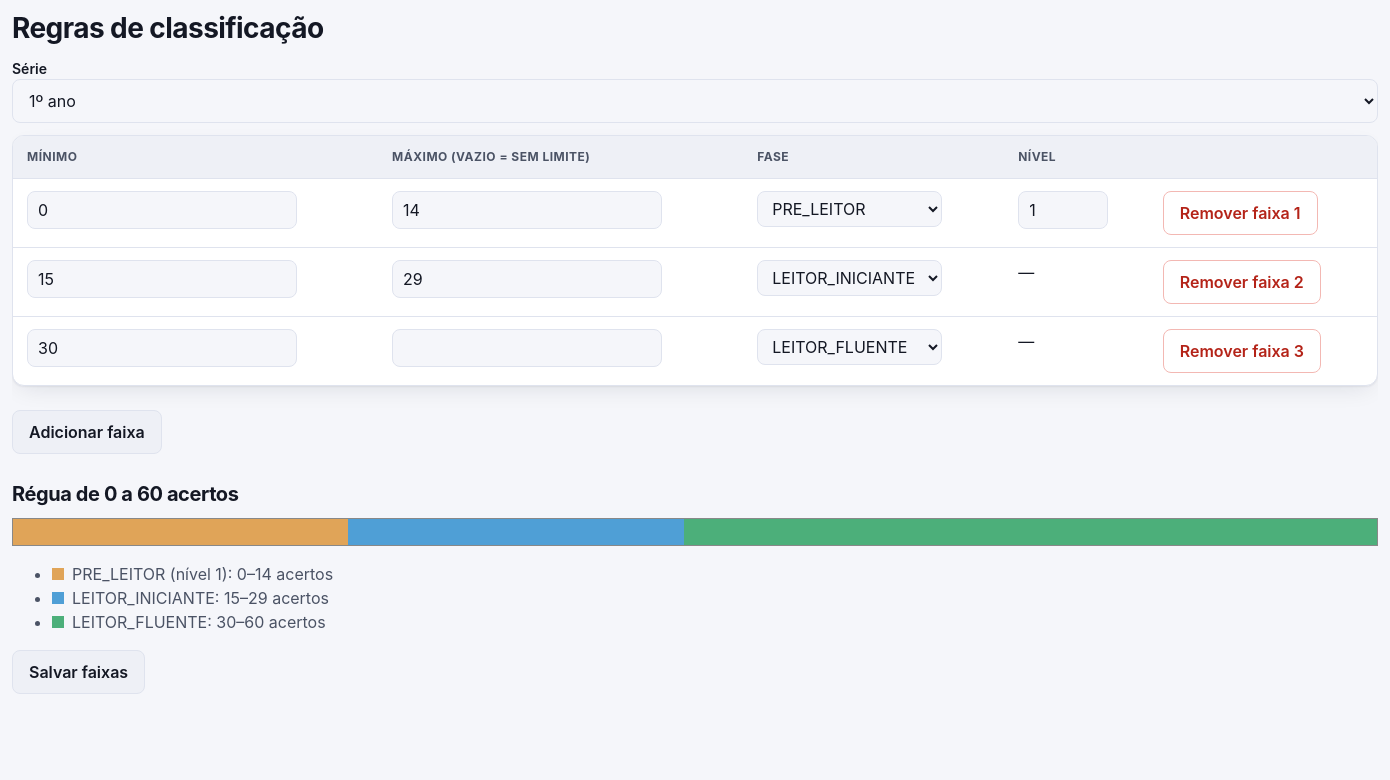
Scenario: RegrasClassificacaoPage › saves a valid set, showing "Salvo com sucesso" and sending the faixas
Expected: the number field named "Mínimo da faixa 1" is shown, top-left (27, 191), bottom-right (297, 229)
What coordinates should you click on to do the following:
click the button "Salvar faixas"
I would click on:
 (79, 672)
Its box is top-left (12, 650), bottom-right (145, 694).
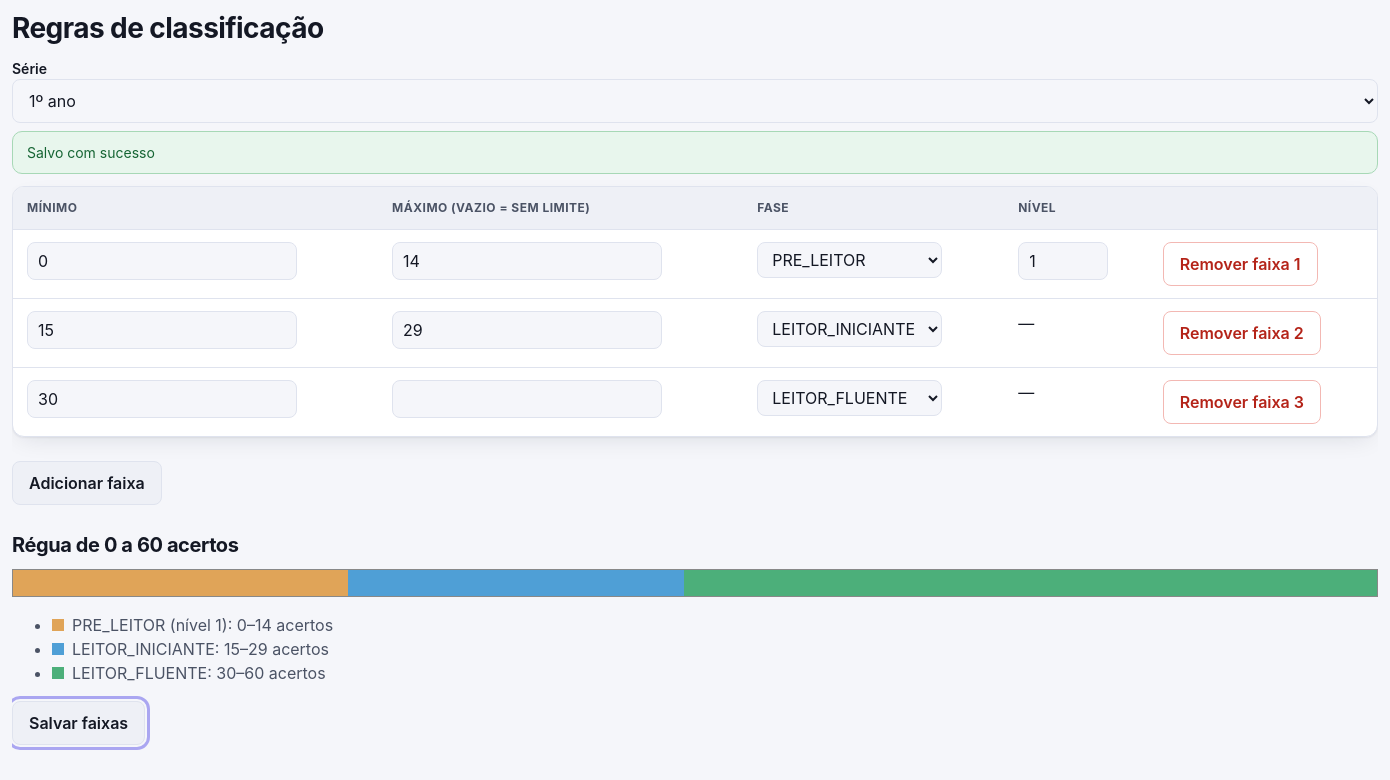
Result: the text "Salvo com sucesso" is shown at top-left (12, 131), bottom-right (1378, 174)
